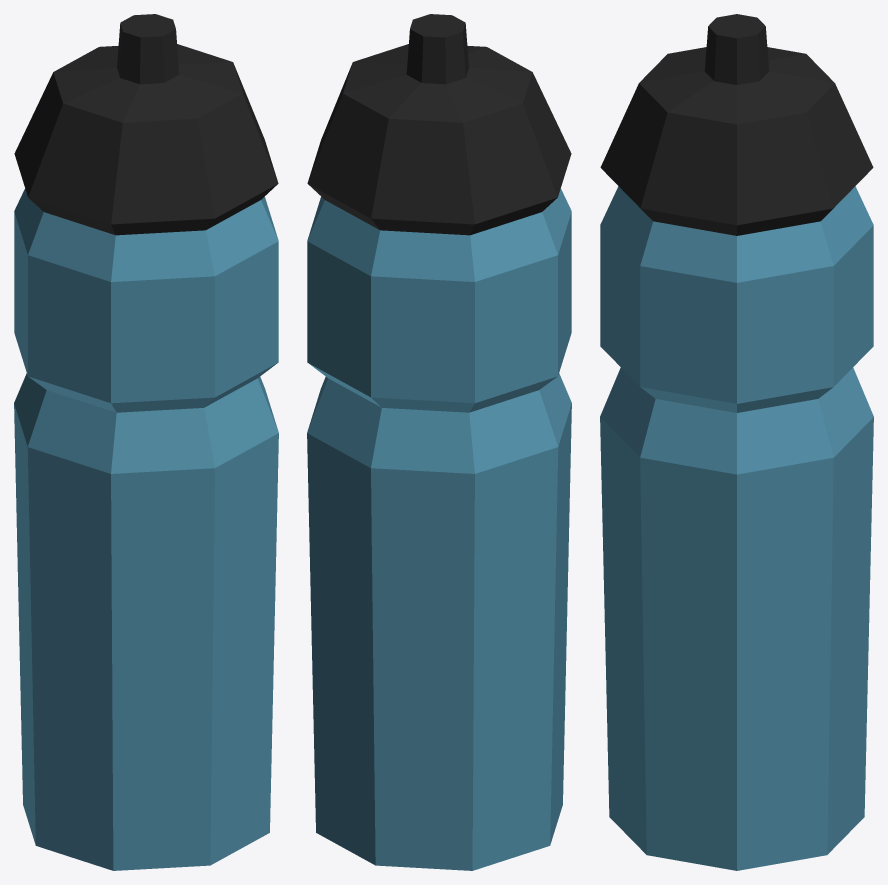
The model's file is Beachgoer_M_Bottle.fbx.
3 views of the same model, side by side, from view 1: azimuth 30°, elevation 25°; view 2: azimuth 150°, elevation 25°; view 3: azimuth 270°, elevation 25° (orthographic).
Visible parts, largest first — view 1: Beachgoer_M_Bottle; view 2: Beachgoer_M_Bottle; view 3: Beachgoer_M_Bottle.
Boxes of the visible parts, bbox=[...] form: Beachgoer_M_Bottle: bbox=[14, 14, 278, 870]; Beachgoer_M_Bottle: bbox=[307, 14, 571, 870]; Beachgoer_M_Bottle: bbox=[600, 14, 873, 870].
Bounding box in the file's own units: 8.13 × 25.94 × 8.13.
